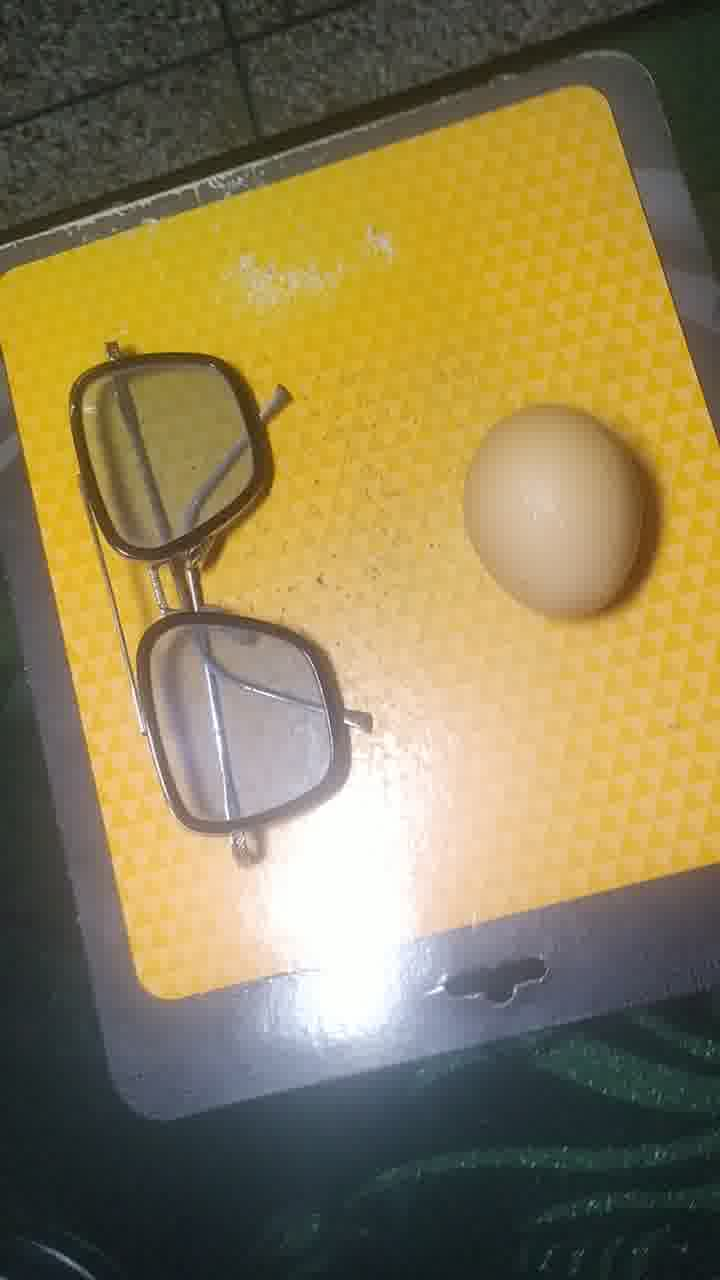egg: (460, 398, 666, 636)
sunglass: (63, 321, 371, 861)
